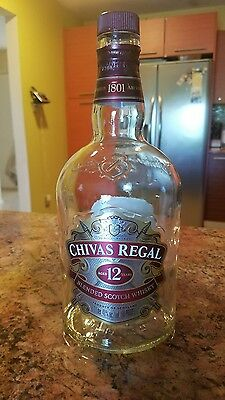Chivas Regal: (48, 8, 185, 358)
